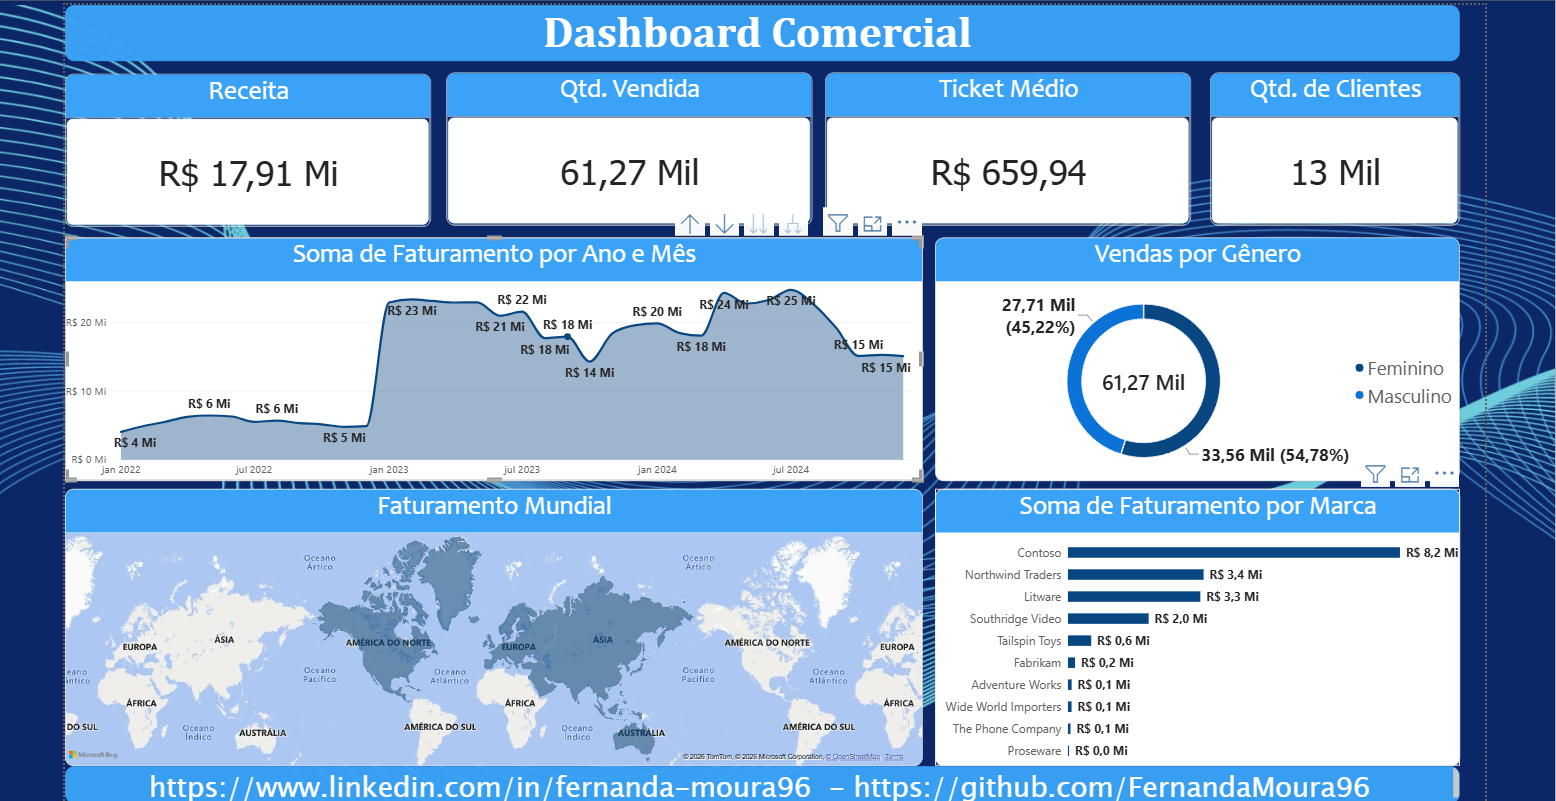

The page's visual inventory and layout, read from the dashboard file:
{"tool":"powerbi","page":{"name":"Página 1","canvas":[1920,1080],"ordinal":0},"visuals":[{"type":"cardVisual","title":"Qtd. Vendida ","fields":{"Data":["Sum(Base Vendas.Qtd. Vendida)"]},"box":[516.3,90.7,495.4,207.6],"z":0},{"type":"cardVisual","title":"Receita","fields":{"Data":["Sum(Base Vendas.Faturamento )"]},"box":[0,93,495.4,207.6],"z":1000},{"type":"cardVisual","title":"Ticket Médio","fields":{"Data":["Base Vendas.ticket médio","Base Vendas.ticket médio"]},"box":[1027.3,90.7,495.4,207.6],"z":2000},{"type":"textbox","box":[0,0,1886.8,76.1],"z":3000},{"type":"cardVisual","title":"Qtd.  de Clientes","fields":{"Data":["Base Vendas.qtd. Cliente"]},"box":[1548.8,90.7,338.4,207.6],"z":4000},{"type":"areaChart","fields":{"Category":["Base Vendas.Data Venda.Variation.Hierarquia de datas.Ano","Base Vendas.Data Venda.Variation.Hierarquia de datas.Mês"],"Y":["Sum(Base Vendas.Faturamento )"]},"box":[0,314,1159.9,329.7],"z":5000},{"type":"donutChart","title":"Vendas por Gênero","fields":{"Category":["Clientes.Genero"],"Y":["Base Vendas.total_vendas"]},"box":[1177.3,314,709.9,329.7],"z":6000},{"type":"filledMap","title":"Faturamento Mundial","fields":{"Category":["Loja.Continente"]},"box":[0,654.3,1159.8,375.3],"z":7000},{"type":"barChart","fields":{"Category":["Produto.Marca"],"Y":["Sum(Base Vendas.Faturamento )"]},"box":[1176.7,654.3,710.1,375.3],"z":8000},{"type":"textbox","box":[0,1029.6,1886.8,50.7],"z":9000}]}

Visuals, with their boxes in screenshot pixels (x1, y1, x2, y2):
"Qtd. Vendida " cardVisual: select_region(451, 70, 814, 223)
"Receita" cardVisual: select_region(73, 72, 436, 224)
"Ticket Médio" cardVisual: select_region(826, 70, 1188, 223)
textbox: select_region(73, 4, 1455, 60)
"Qtd.  de Clientes" cardVisual: select_region(1208, 70, 1456, 223)
areaChart - Base Vendas.Data Venda.Variation.Hierarquia de datas.Ano x Base Vendas.Data Venda.Variation.Hierarquia de datas.Mês: select_region(73, 234, 923, 476)
"Vendas por Gênero" donutChart: select_region(935, 234, 1456, 476)
"Faturamento Mundial" filledMap: select_region(73, 483, 923, 758)
barChart - Produto.Marca x Sum(Base Vendas.Faturamento ): select_region(935, 483, 1455, 758)
textbox: select_region(73, 758, 1455, 795)
